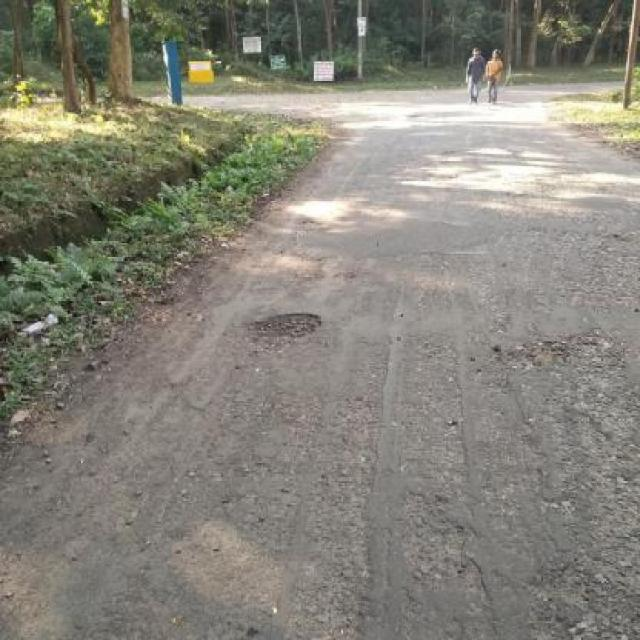Pothole: (242, 308, 321, 354), (502, 337, 566, 371)
